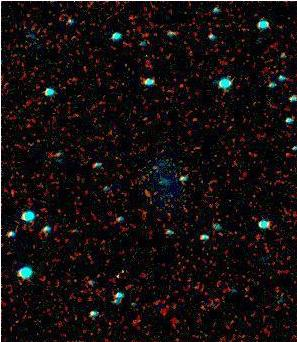star: (46, 196, 76, 226)
